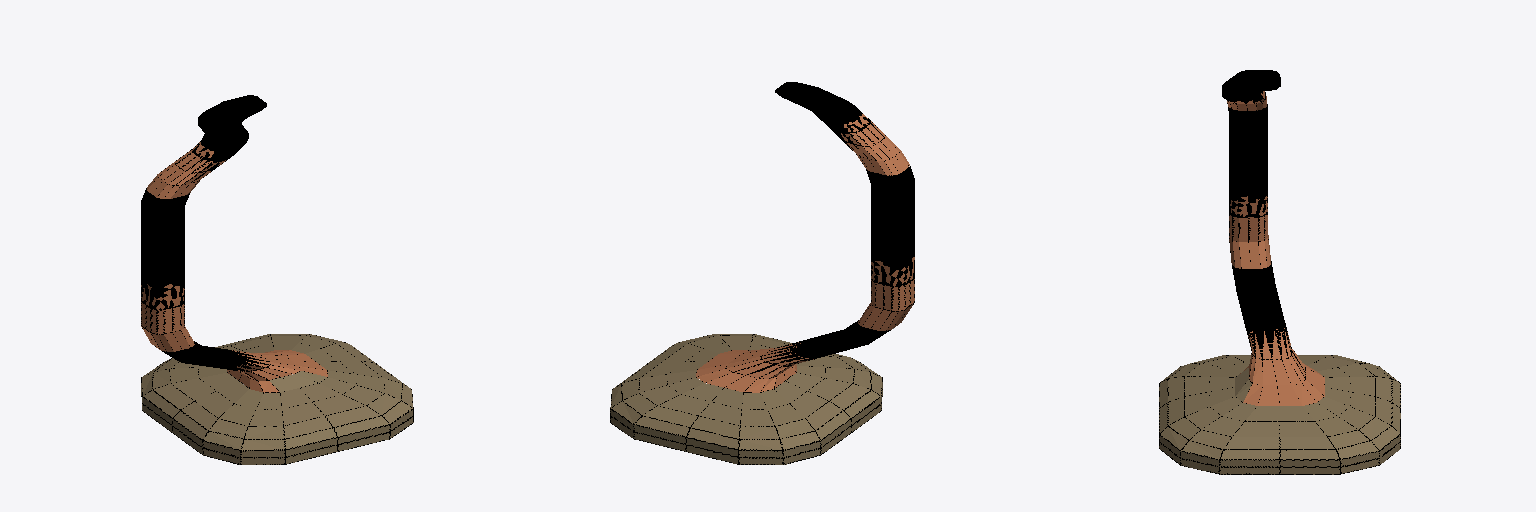
The picture shows the model from 3 angles: view 1: azimuth 30°, elevation 25°; view 2: azimuth 150°, elevation 25°; view 3: azimuth 270°, elevation 25°; orthographic projection.
Parts seen in each view (by area): view 1: Cube; view 2: Cube; view 3: Cube.
Part boxes in pixels (x1,y1,x2,y2): Cube: (141, 95, 413, 464); Cube: (610, 82, 914, 464); Cube: (1159, 70, 1400, 474).
Size of the model in its own units: 2.41 by 3.01 by 2.
Materials: 1 (1 with a texture image).